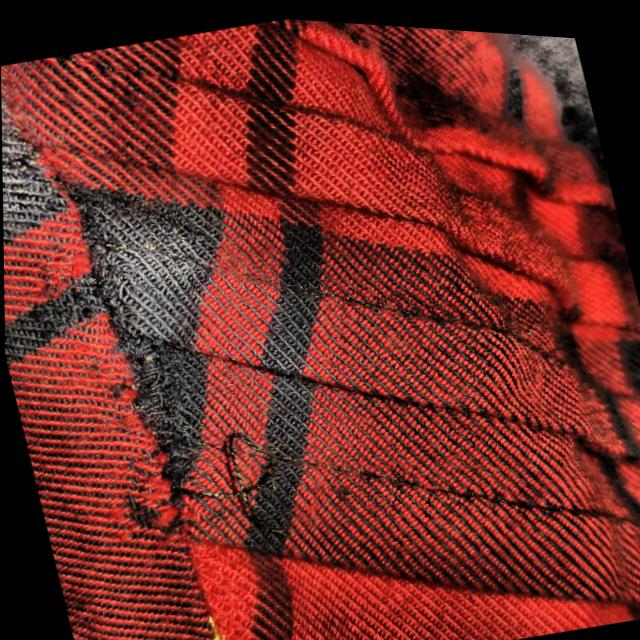Stitch: (72, 292, 306, 575)
